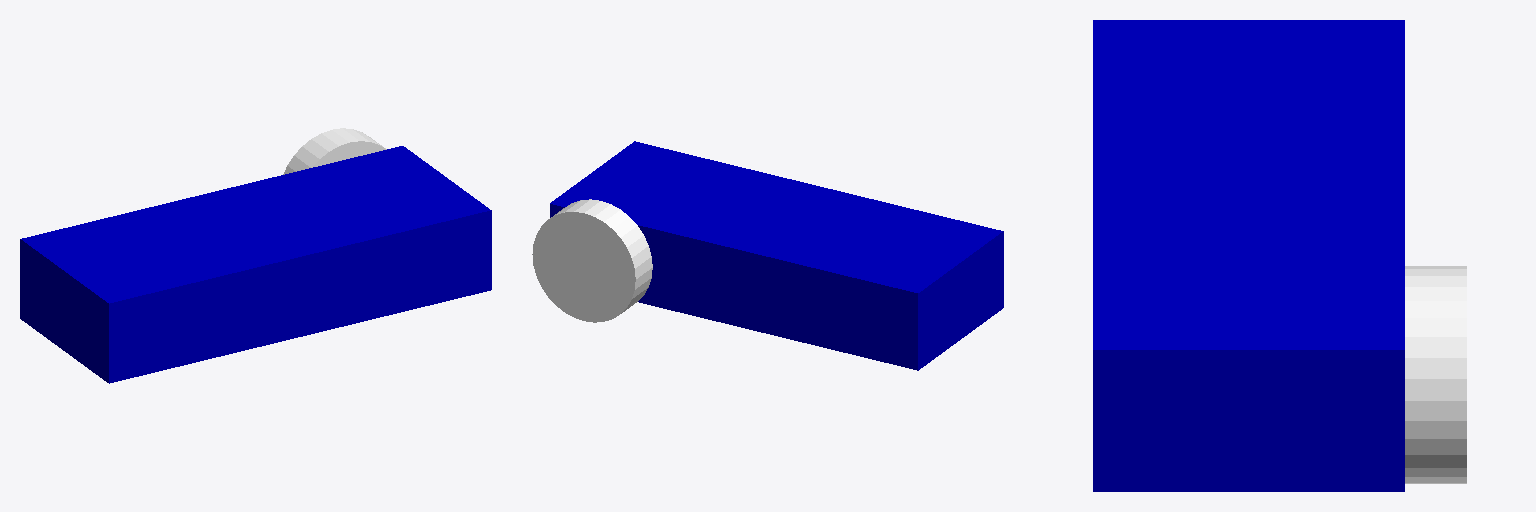
URDF robot description (primius):
<?xml version="1.0"?>
<robot name="primius">
    <material name="blue">
        <color rgba="0 0 0.8 1"/>
    </material>
    <material name="white">
        <color rgba="1 1 1 1"/>
    </material>
    <link name="base_link">
        <visual>
        <geometry>
                <box size="0.5 0.2 0.1"/>
        </geometry>
        <material name="blue"/>
        </visual>
    </link>
    <link name="wheel_front_right">
        <visual>
            <geometry>
                <cylinder radius="0.07" length="0.04"/>
            </geometry>
            <material name="white"/>
        </visual>
    </link>
    <joint name="base_link_wheel_front_right" type="fixed">
        <parent link="base_link"/>
        <child link="wheel_front_right"/>
        <origin xyz="0.18 0.12 0.0" rpy="1.57 0.0 0.0"/>
    </joint>
</robot>

--- Facts derived from the render (not from the file) ---
The picture shows the robot from 3 angles, left to right: view 1: azimuth 30°, elevation 25°; view 2: azimuth 150°, elevation 25°; view 3: azimuth 270°, elevation 25°; orthographic projection.
Robot: primius — 2 links, 1 joints (1 fixed); root link base_link; default pose: all joints at 0.
Visible links, largest first — view 1: base_link, wheel_front_right; view 2: base_link, wheel_front_right; view 3: base_link, wheel_front_right.
Link boxes in pixels (<box>): base_link: <box>20,146,491,383</box>; wheel_front_right: <box>283,128,386,174</box>; base_link: <box>550,141,1003,370</box>; wheel_front_right: <box>532,199,652,322</box>; base_link: <box>1093,20,1404,491</box>; wheel_front_right: <box>1405,266,1466,483</box>.
Size in the robot's own frame: 0.5 by 0.2401 by 0.14 metres.
Geometry: primitives only (box / cylinder / sphere), no mesh files.